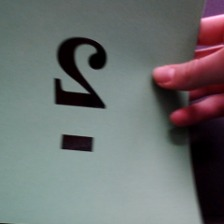green2: (49, 31, 114, 160)
